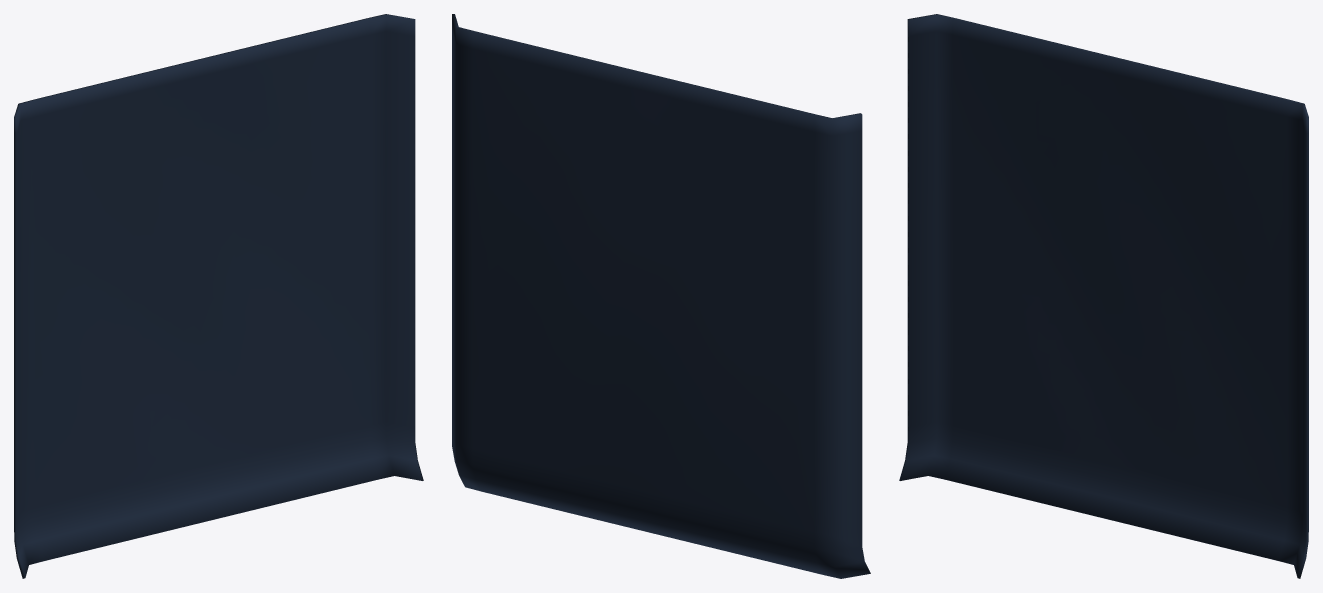
File: bedding-second-35c10f6984e5.glb
3 views of the same model, side by side, from view 1: azimuth 30°, elevation 25°; view 2: azimuth 150°, elevation 25°; view 3: azimuth 330°, elevation 25° (orthographic). The views are drawn at different scales.
Parts seen in each view (by area): view 1: fabric 1.001; view 2: fabric 1.001; view 3: fabric 1.001.
Part boxes in pixels (left/top/right/bottom): fabric 1.001: left=14, top=14, right=423, bottom=578; fabric 1.001: left=452, top=14, right=870, bottom=578; fabric 1.001: left=899, top=14, right=1308, bottom=578.
Size of the model in its own units: 1.88 by 2.04 by 0.2073.
